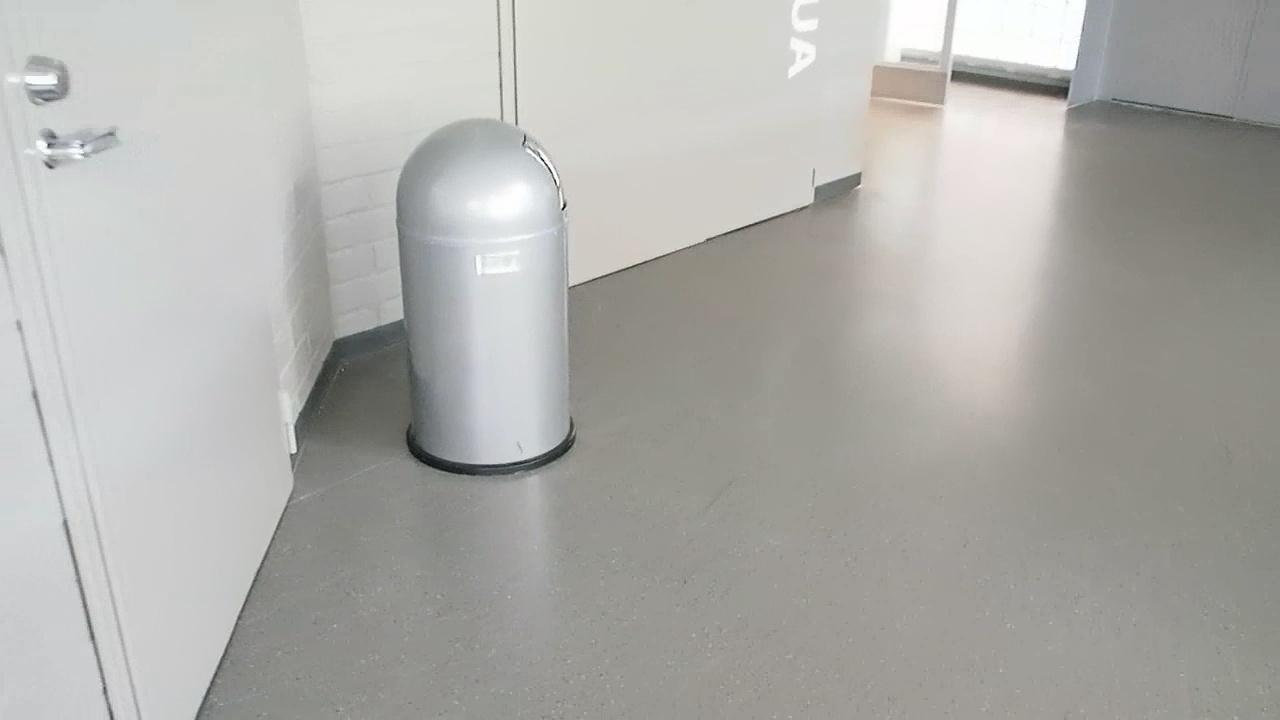trashbin: (394, 120, 572, 472)
